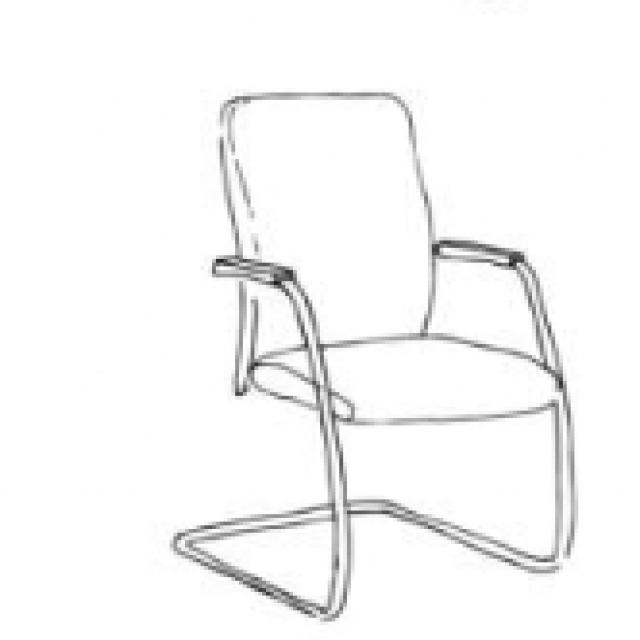Armrest: (429, 234, 526, 274), (210, 251, 301, 293)
Backrest: (219, 91, 436, 395)
Leg_Structure: (166, 240, 589, 629)
Seat: (247, 334, 566, 425)
